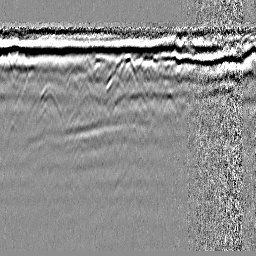cavity: (116, 52, 139, 86)
